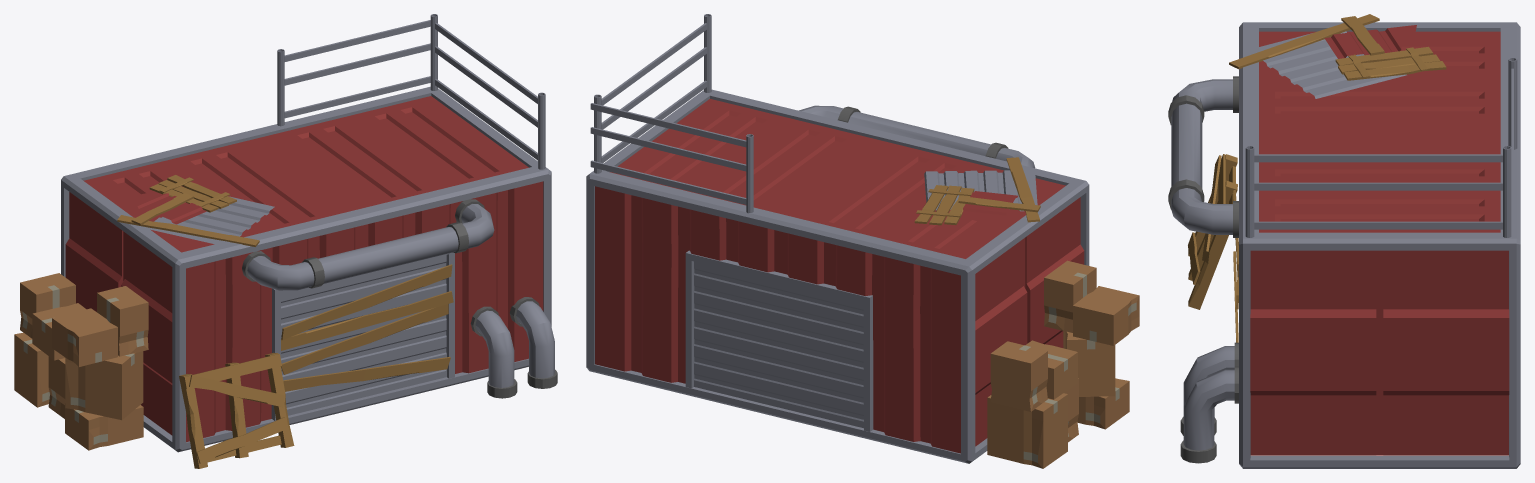
File: ContainerStructure.gltf
The picture shows the model from 3 angles, left to right: view 1: azimuth 30°, elevation 25°; view 2: azimuth 150°, elevation 25°; view 3: azimuth 270°, elevation 25°; orthographic projection. The views are drawn at different scales.
Visible parts, largest first — view 1: Structure_1; view 2: Structure_1; view 3: Structure_1.
Boxes of the visible parts, x1,y1,x2,y2 form: Structure_1: (14, 14, 557, 468); Structure_1: (586, 14, 1139, 468); Structure_1: (1168, 14, 1520, 468).
Bounding box in the file's own units: 7.98 × 4.56 × 4.52.
